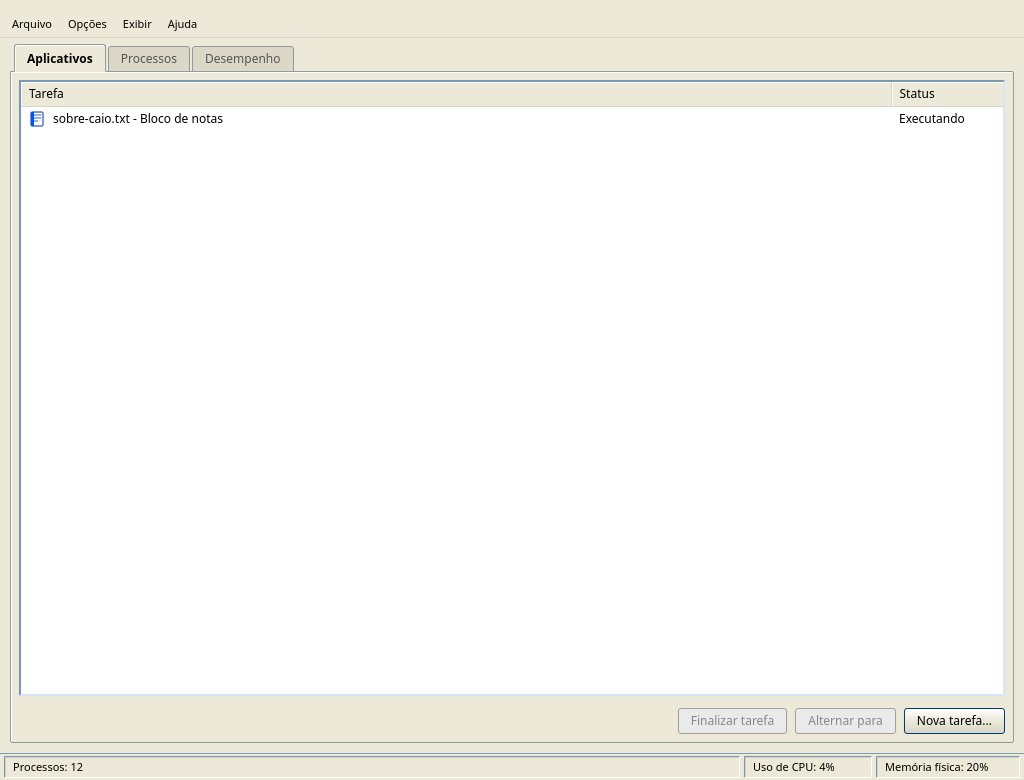
TaskManagerApp › terminates selected task when clicking "Finalizar tarefa"
The width and height of the screenshot is (1024, 780).
Expected: the text "sobre-caio.txt - Bloco de notas" is shown, top-left (53, 110), bottom-right (223, 126)
Click the text "sobre-caio.txt - Bloco de notas Executando". click: (138, 118)
box: top-left (21, 106), bottom-right (1003, 130)
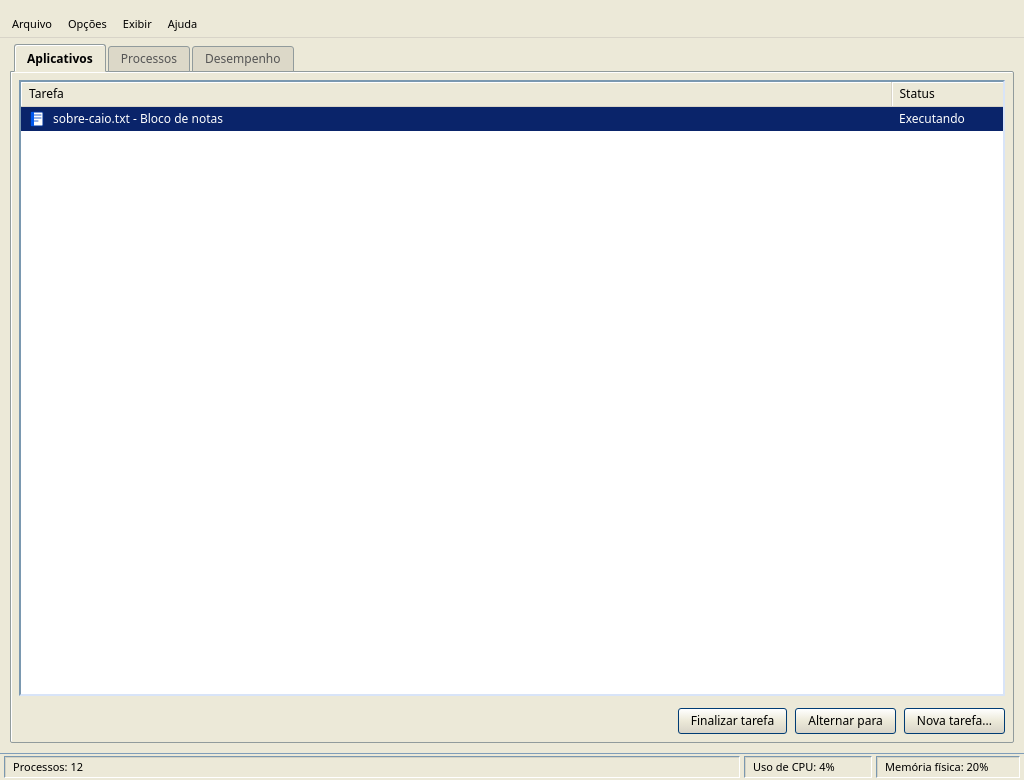
Expected: the button "Finalizar tarefa" is enabled
# Click Finalizar tarefa
Click the button "Finalizar tarefa". click: (732, 720)
box: top-left (678, 708), bottom-right (787, 734)
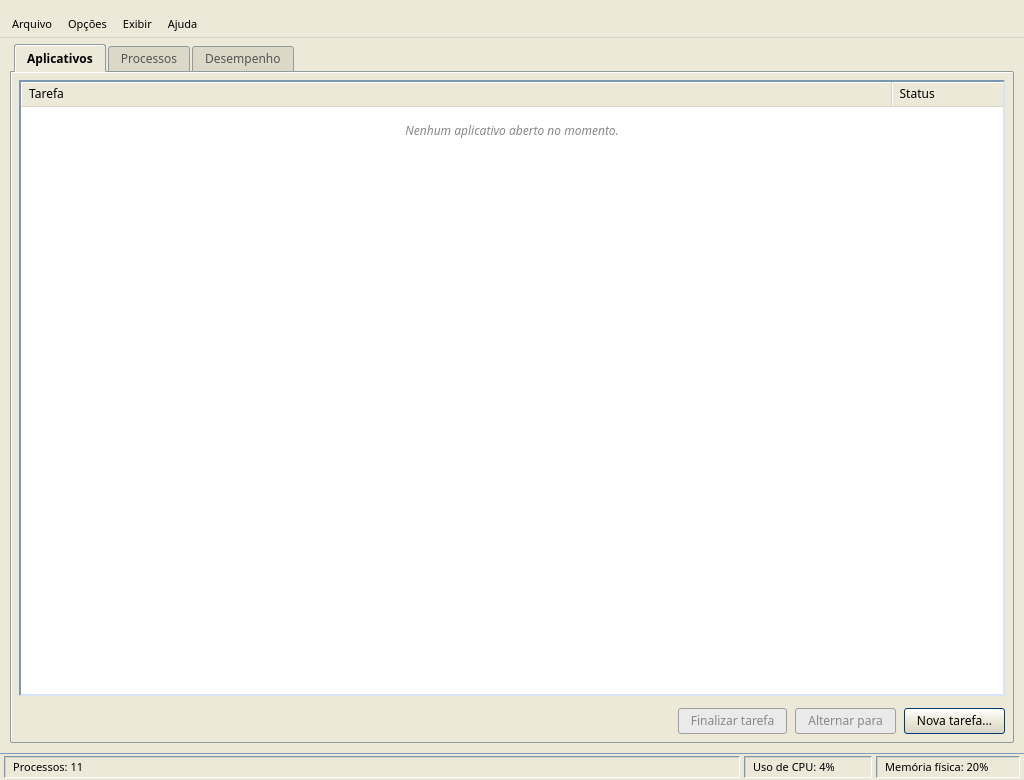
Expected: the text "sobre-caio.txt" is gone
